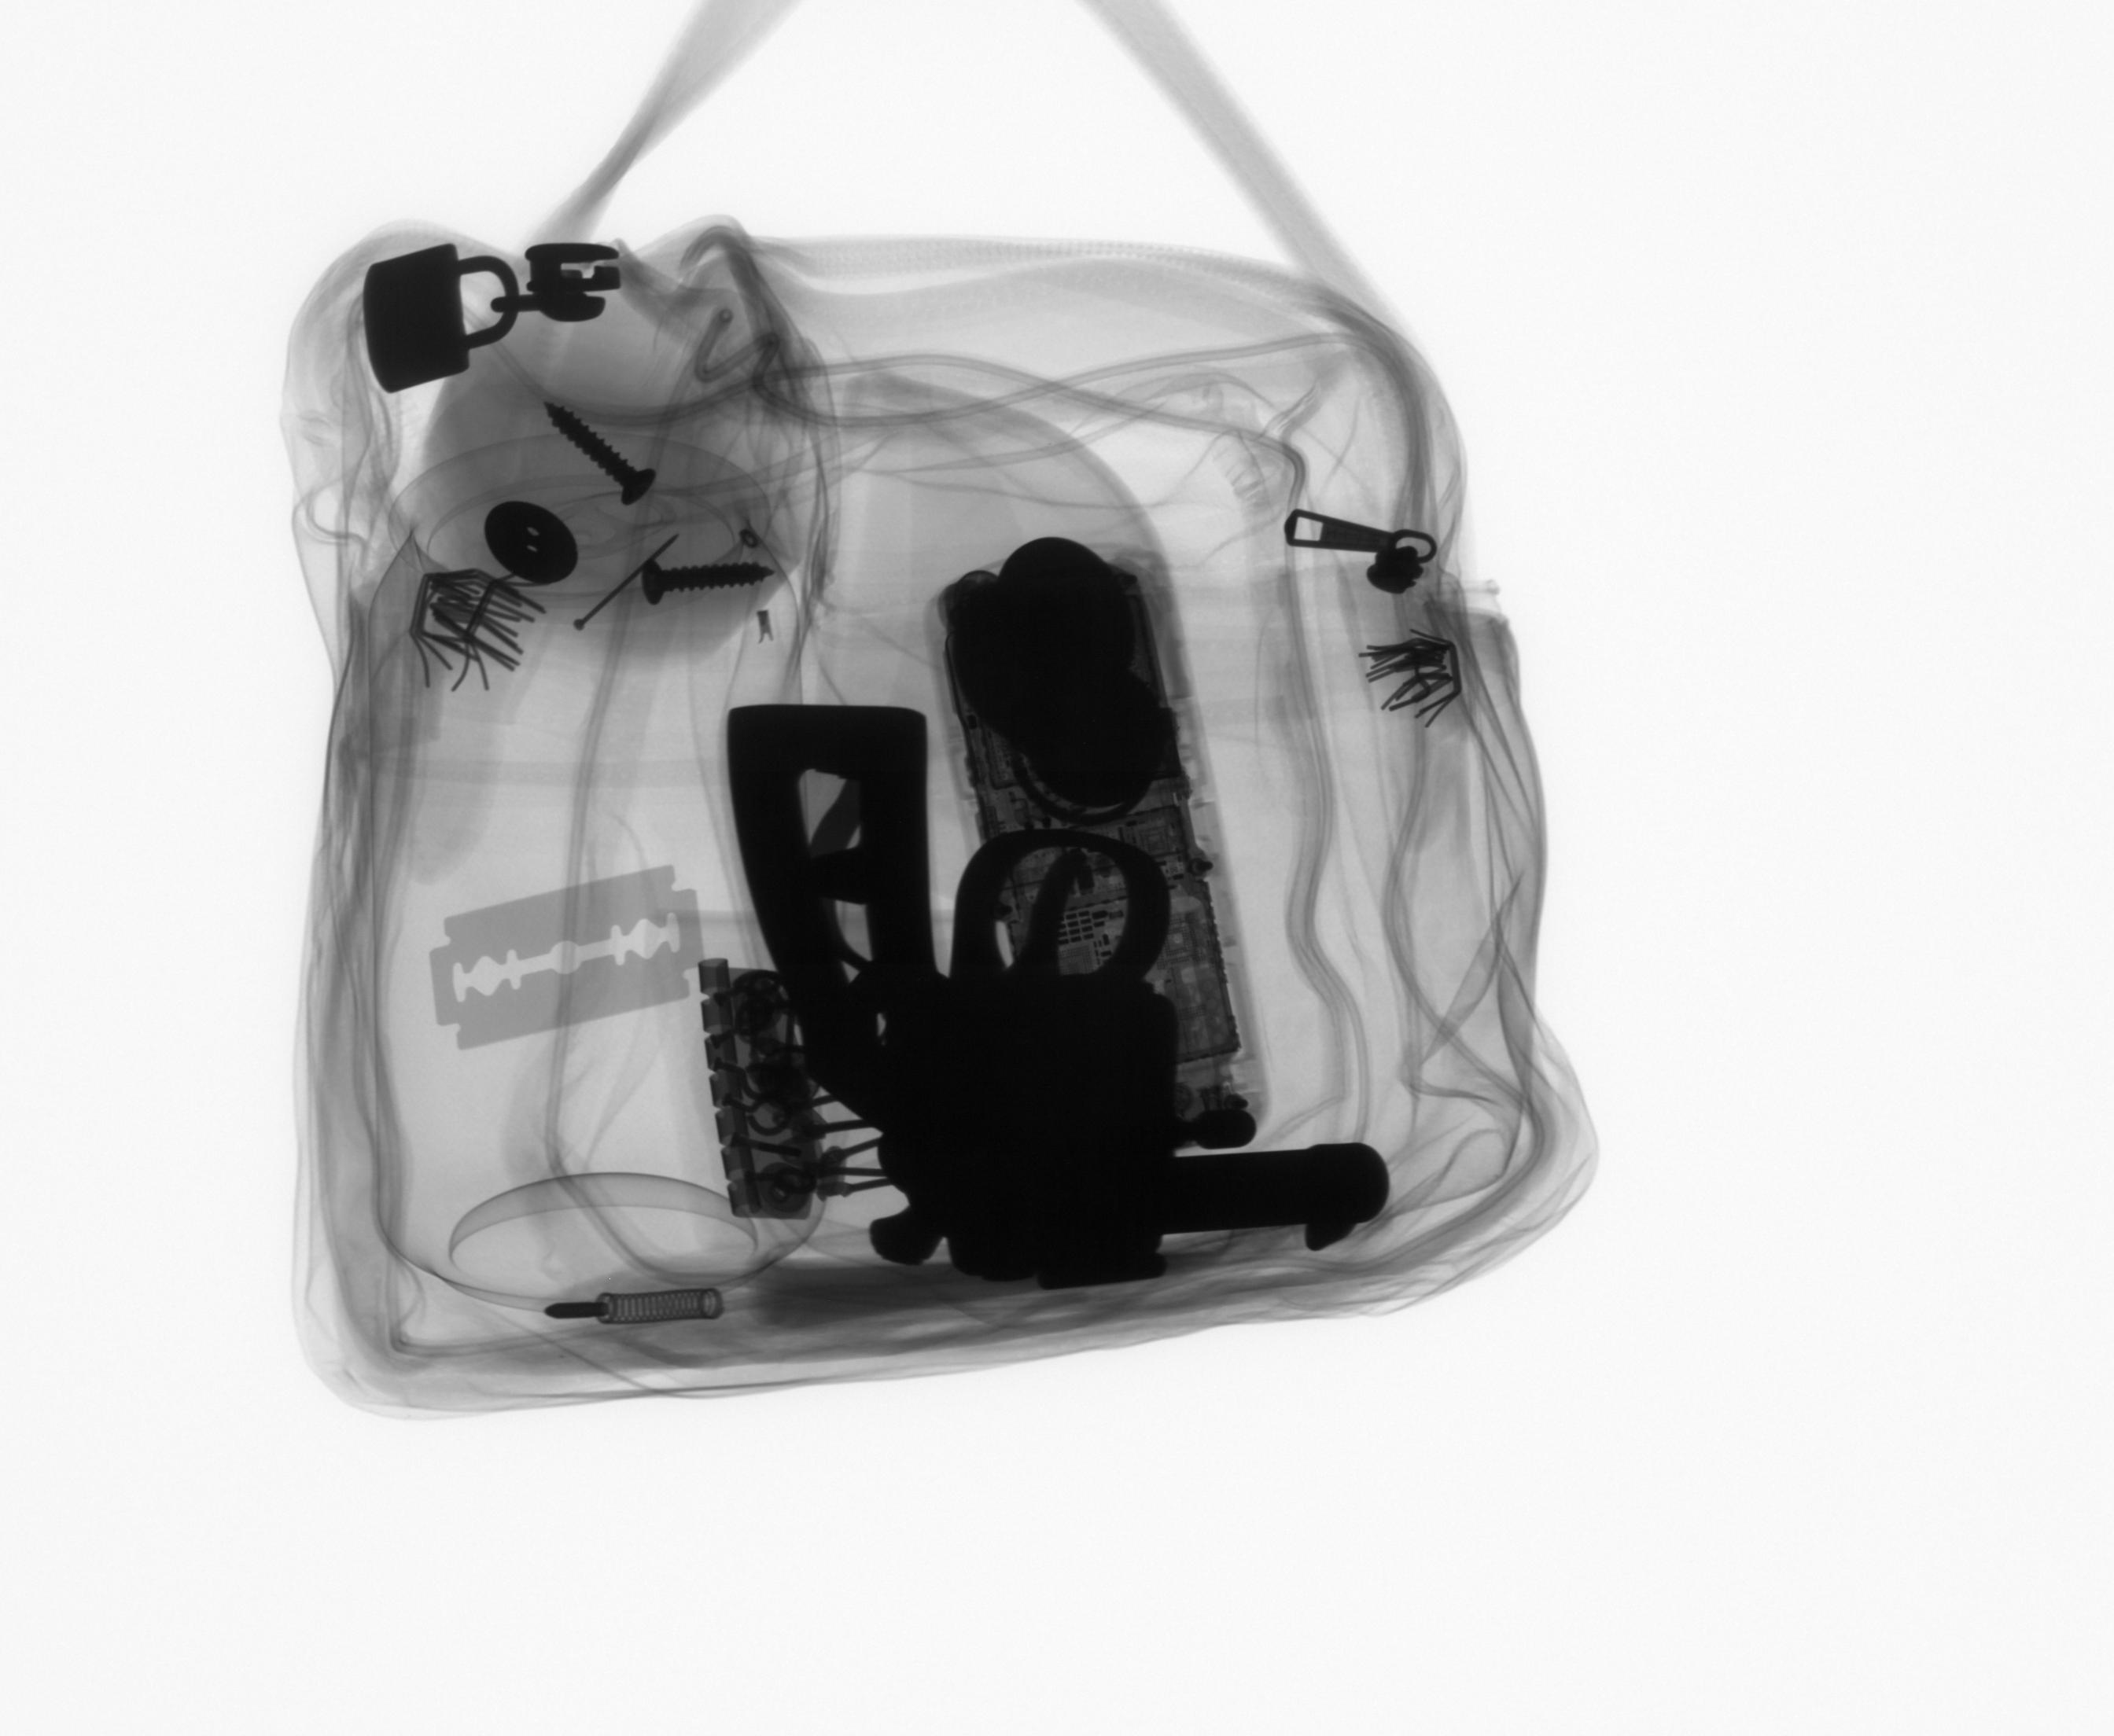Handgun: (715, 693, 1405, 1288)
RazorBlade: (420, 853, 715, 1057)
